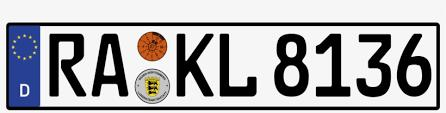1: (314, 31, 352, 98)
3: (355, 32, 392, 98)
6: (395, 32, 433, 98)
8: (273, 31, 311, 98)
A: (91, 32, 129, 98)
K: (173, 30, 215, 98)
L: (218, 31, 259, 98)
R: (47, 31, 88, 98)
